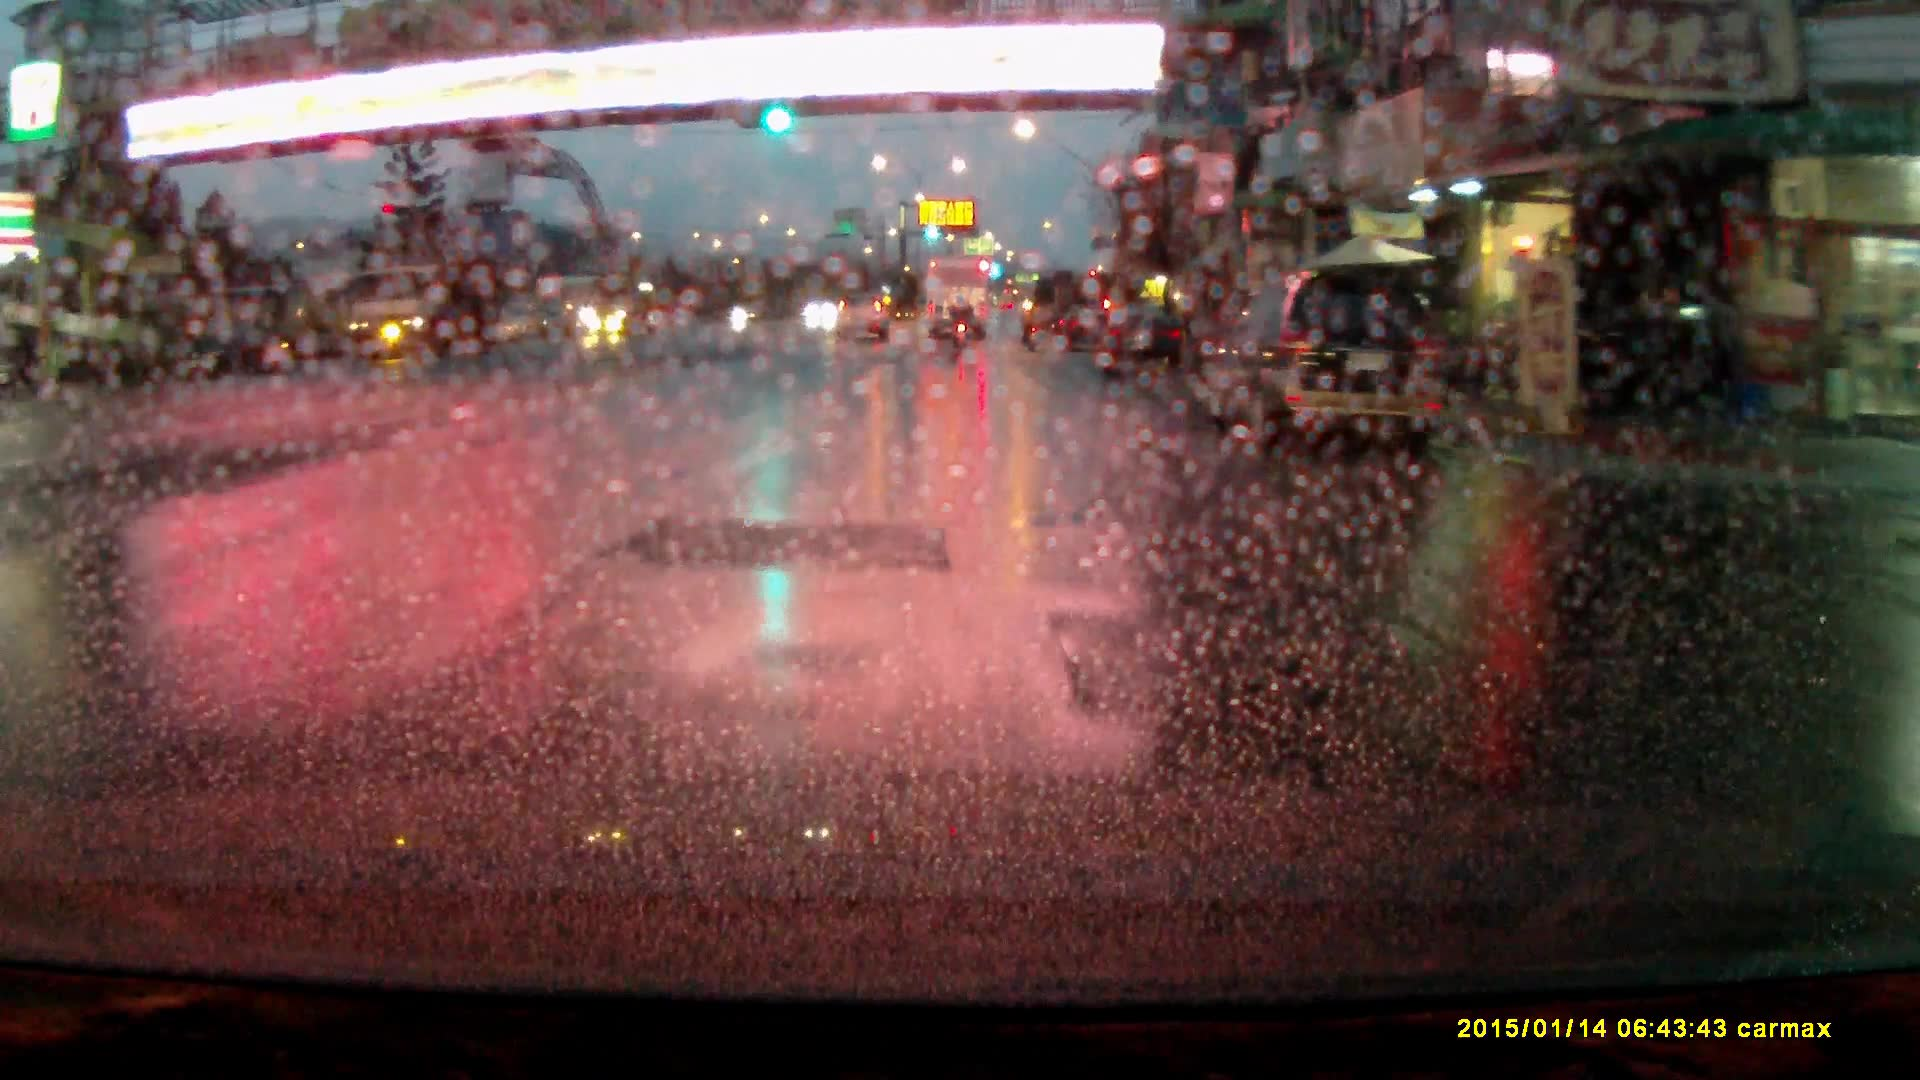rider: (949, 292, 974, 352)
vehicle: (1203, 273, 1447, 455), (1582, 293, 1718, 422), (340, 266, 493, 368), (1097, 308, 1187, 374), (924, 262, 992, 340), (582, 285, 667, 344), (836, 292, 894, 341), (1064, 306, 1115, 356)
